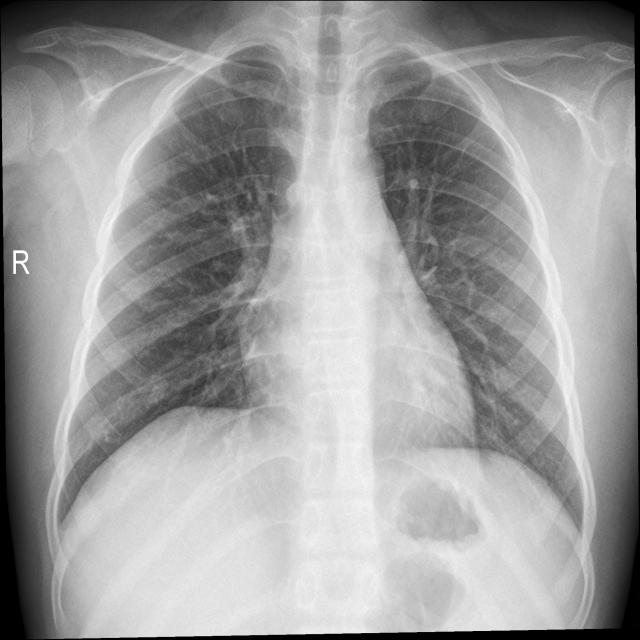no-pneumonia: (57, 47, 297, 520), (371, 60, 585, 524)
